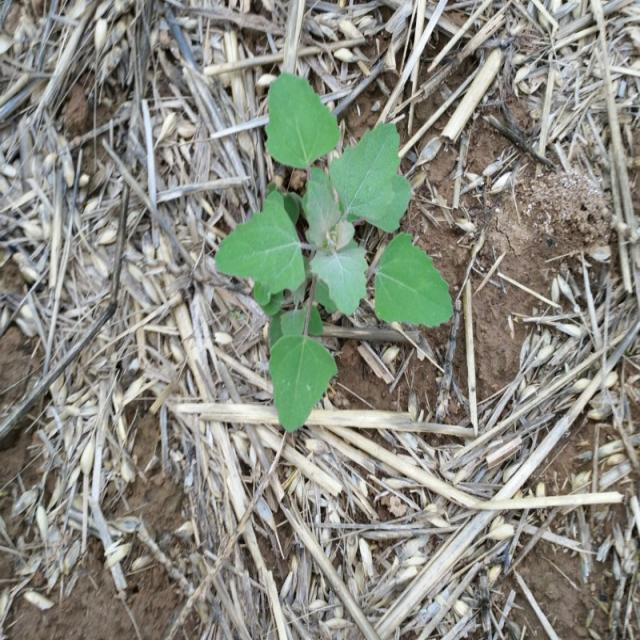goosefoots: (224, 78, 434, 416)
